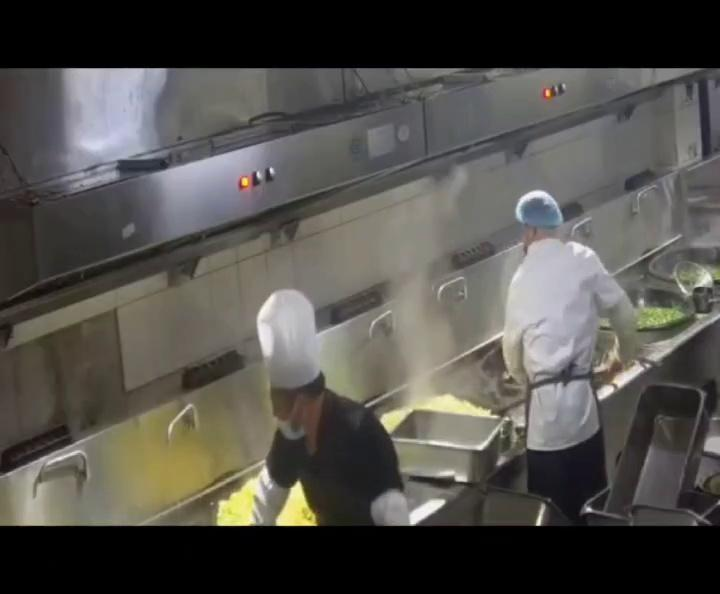gloves: (516, 191, 564, 229)
